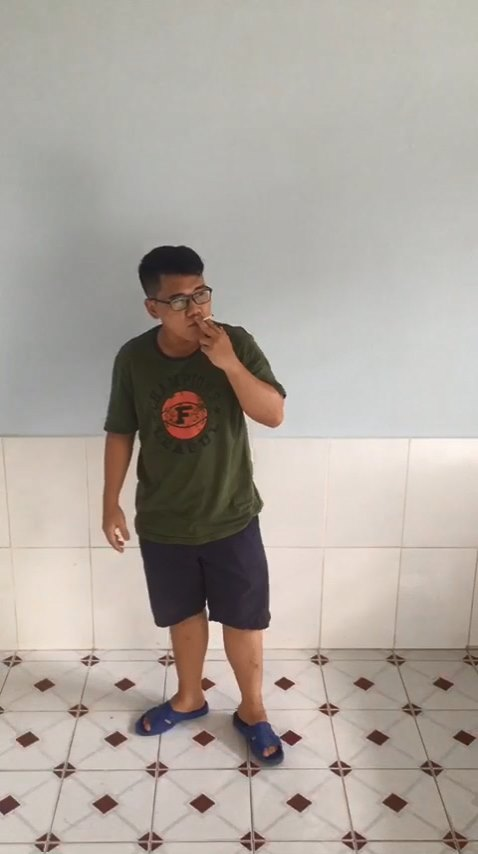cigarette: (196, 310, 218, 324)
person: (86, 225, 313, 779)
